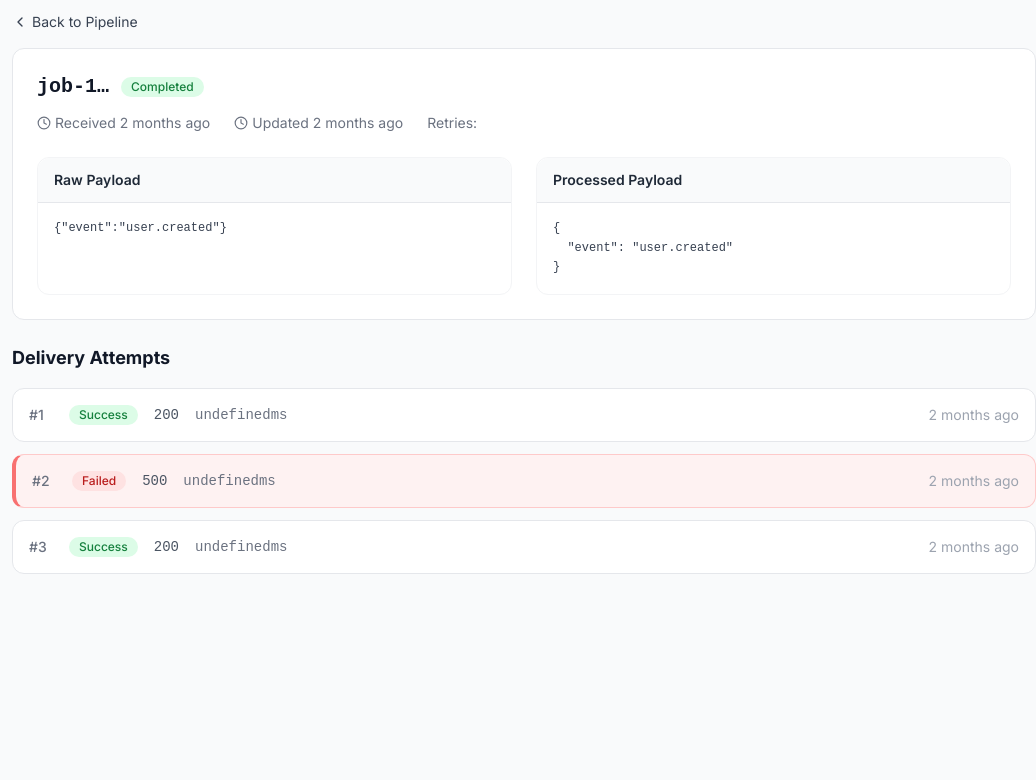
Test: JobDetailPage › expands attempt row to show response snippet on click
The width and height of the screenshot is (1036, 780).
Expected: the text "Failed" is shown, [72, 470, 126, 490]
Click the element that starts with "Failed" at (524, 480), box [12, 454, 1035, 508]
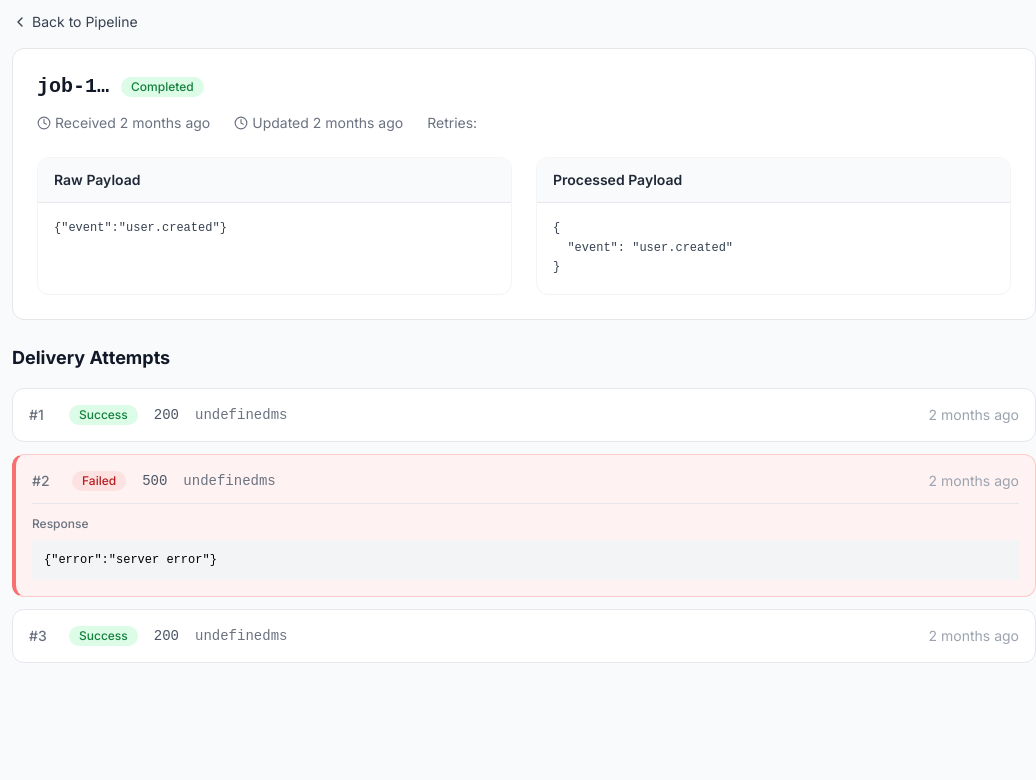
Expected: the text "{\"error\":\"server error\"}" is shown, [32, 540, 1019, 580]
